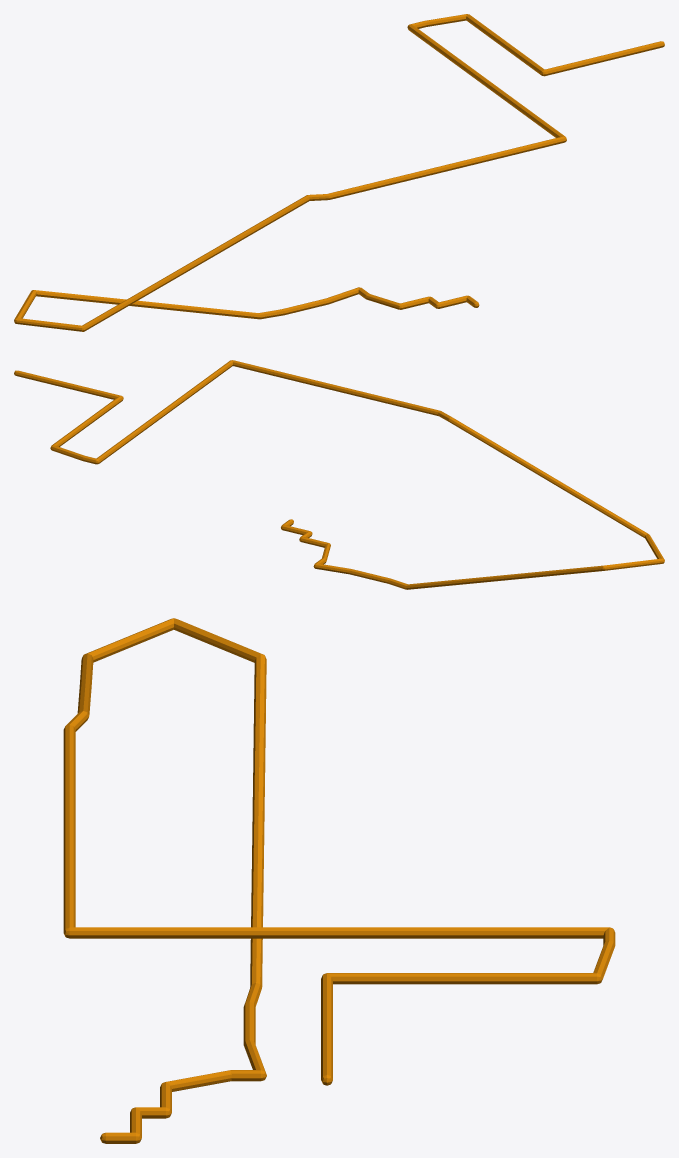
The picture shows the model from 3 angles, top to bottom: view 1: azimuth 30°, elevation 25°; view 2: azimuth 150°, elevation 25°; view 3: azimuth 270°, elevation 25°; orthographic projection. The views are drawn at different scales.
Bounding box in the file's own units: 2356 × 520 × 920.
